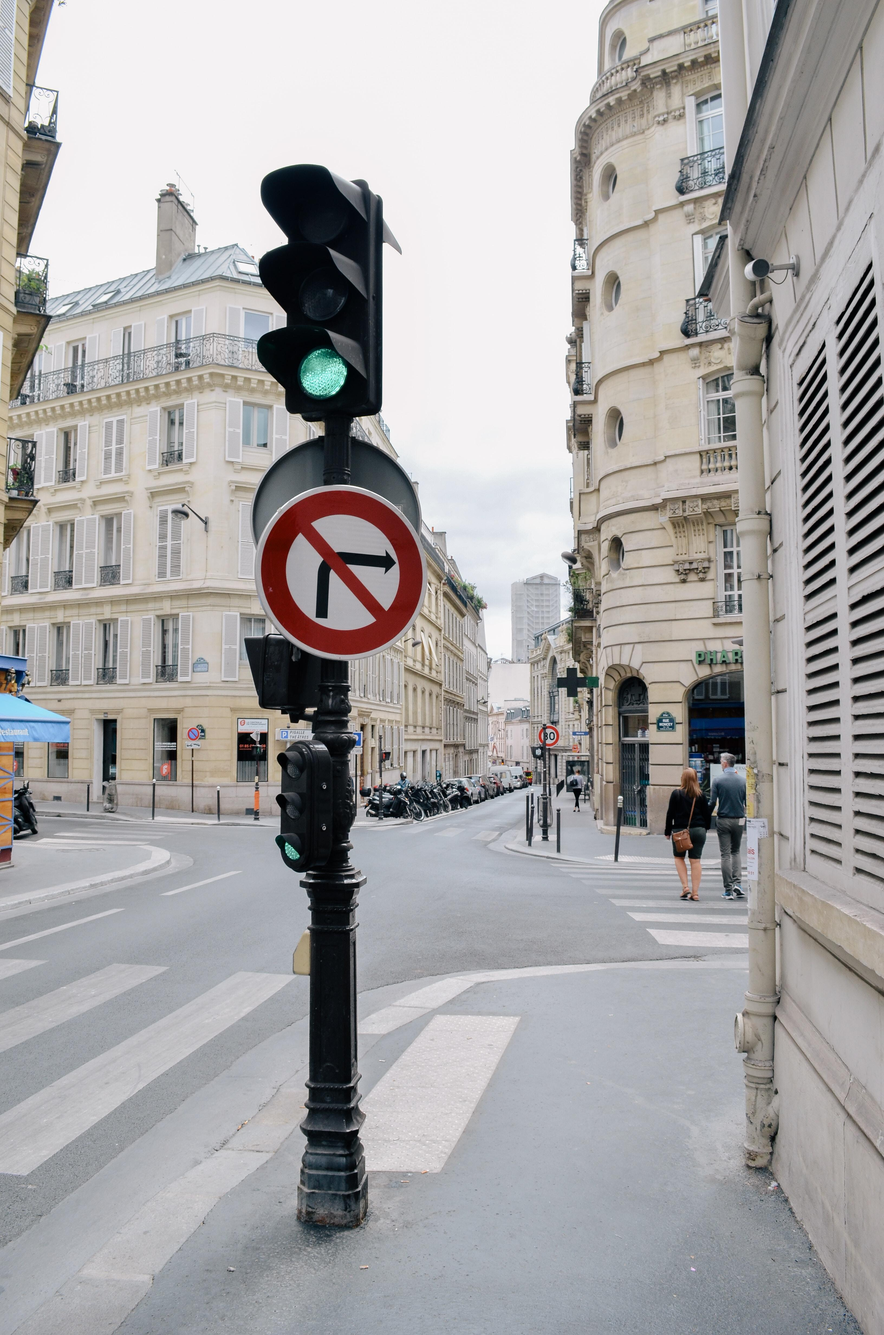Traffic light green: (241, 163, 404, 412)
